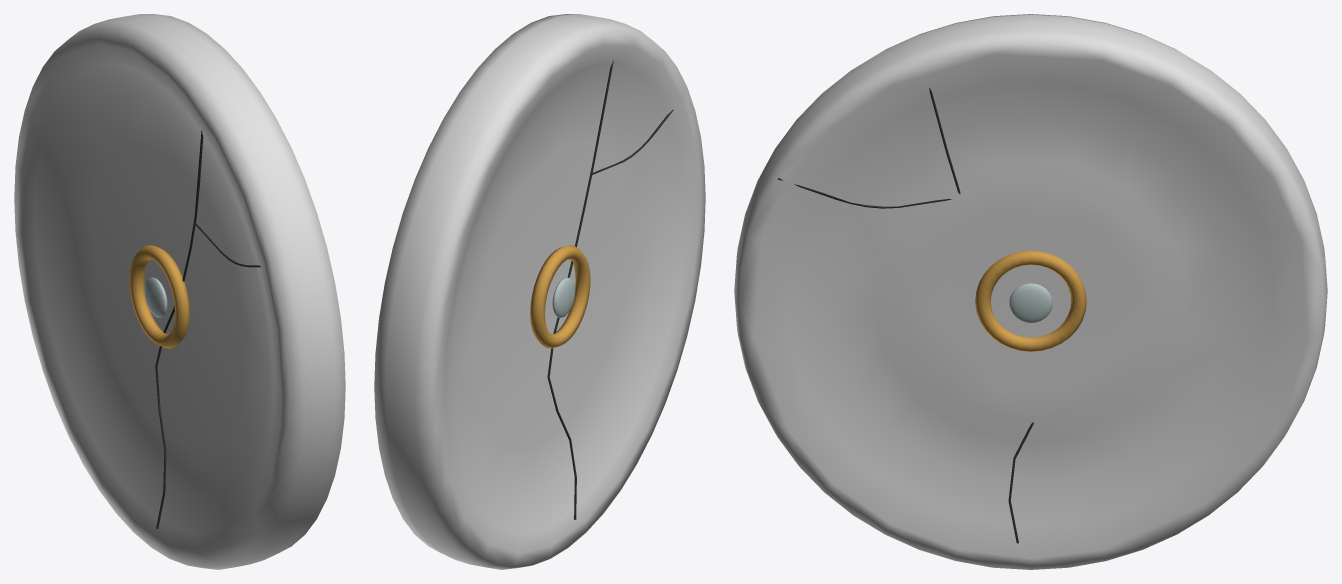
File: plate-light.glb
3 views of the same model, side by side, from view 1: azimuth 30°, elevation 25°; view 2: azimuth 150°, elevation 25°; view 3: azimuth 270°, elevation 25° (orthographic). The views are drawn at different scales.
Parts seen in each view (by area): view 1: plate-shell, brass, dark, hub; view 2: plate-shell, brass, dark, hub; view 3: plate-shell, brass, hub, dark.
Part boxes in pixels (bbox=[...]): plate-shell: bbox=[14, 14, 345, 569]; brass: bbox=[129, 245, 189, 348]; dark: bbox=[155, 130, 260, 529]; hub: bbox=[144, 277, 167, 317]; plate-shell: bbox=[374, 14, 705, 569]; brass: bbox=[530, 245, 590, 348]; dark: bbox=[547, 60, 673, 519]; hub: bbox=[552, 277, 575, 317]; plate-shell: bbox=[734, 14, 1327, 569]; brass: bbox=[975, 250, 1086, 351]; hub: bbox=[1009, 283, 1052, 322]; dark: bbox=[777, 87, 1033, 543].
Size of the model in its own units: 0.083 by 0.68 by 0.68.
